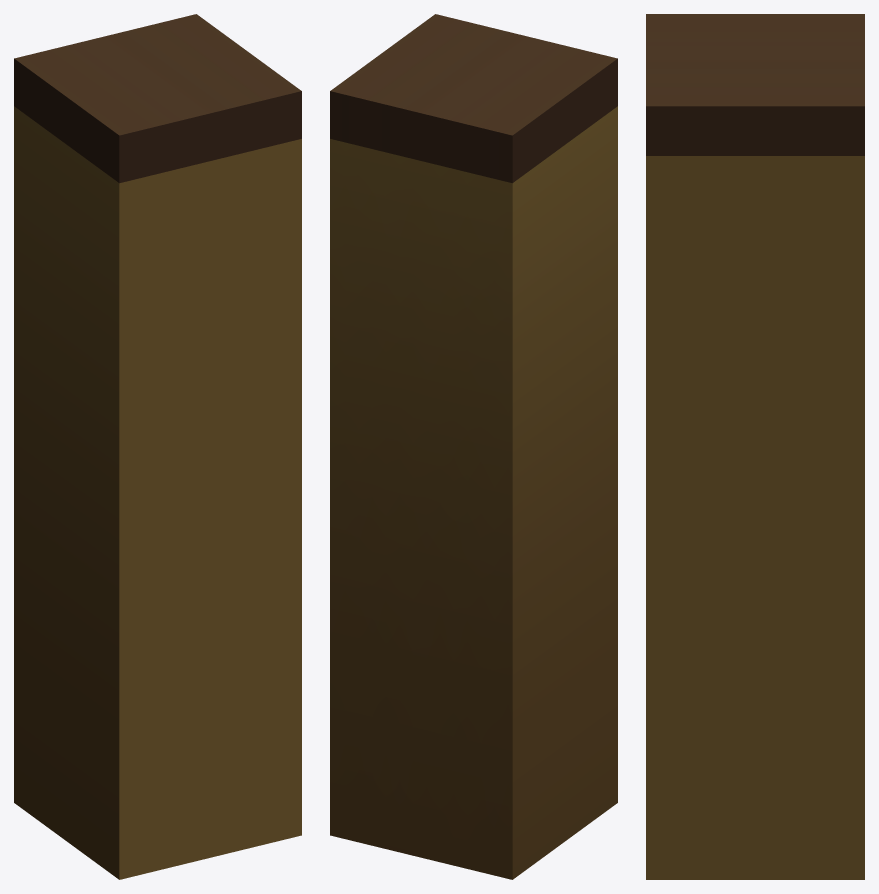
File: TSP_Plinth_02A_Corner.fbx
The picture shows the model from 3 angles, left to right: view 1: azimuth 30°, elevation 25°; view 2: azimuth 150°, elevation 25°; view 3: azimuth 270°, elevation 25°; orthographic projection. The views are drawn at different scales.
Parts seen in each view (by area): view 1: TSP_Plinth_02A_Corner; view 2: TSP_Plinth_02A_Corner; view 3: TSP_Plinth_02A_Corner.
Boxes of the visible parts, x1,y1,x2,y2 form: TSP_Plinth_02A_Corner: (14,14,301,879); TSP_Plinth_02A_Corner: (330,14,617,879); TSP_Plinth_02A_Corner: (646,14,864,879).
Bounding box in the file's own units: 0.1 × 0.39 × 0.1.
